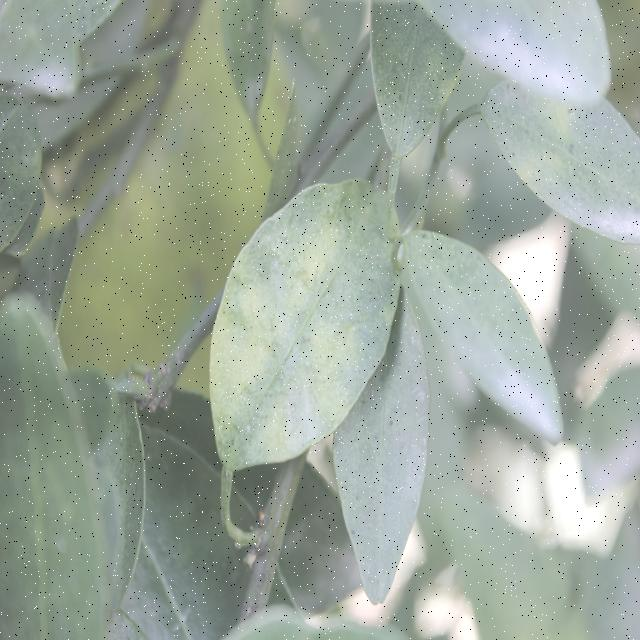blackspot: (207, 203, 394, 447), (501, 76, 640, 232), (348, 343, 422, 577), (365, 5, 441, 138)
